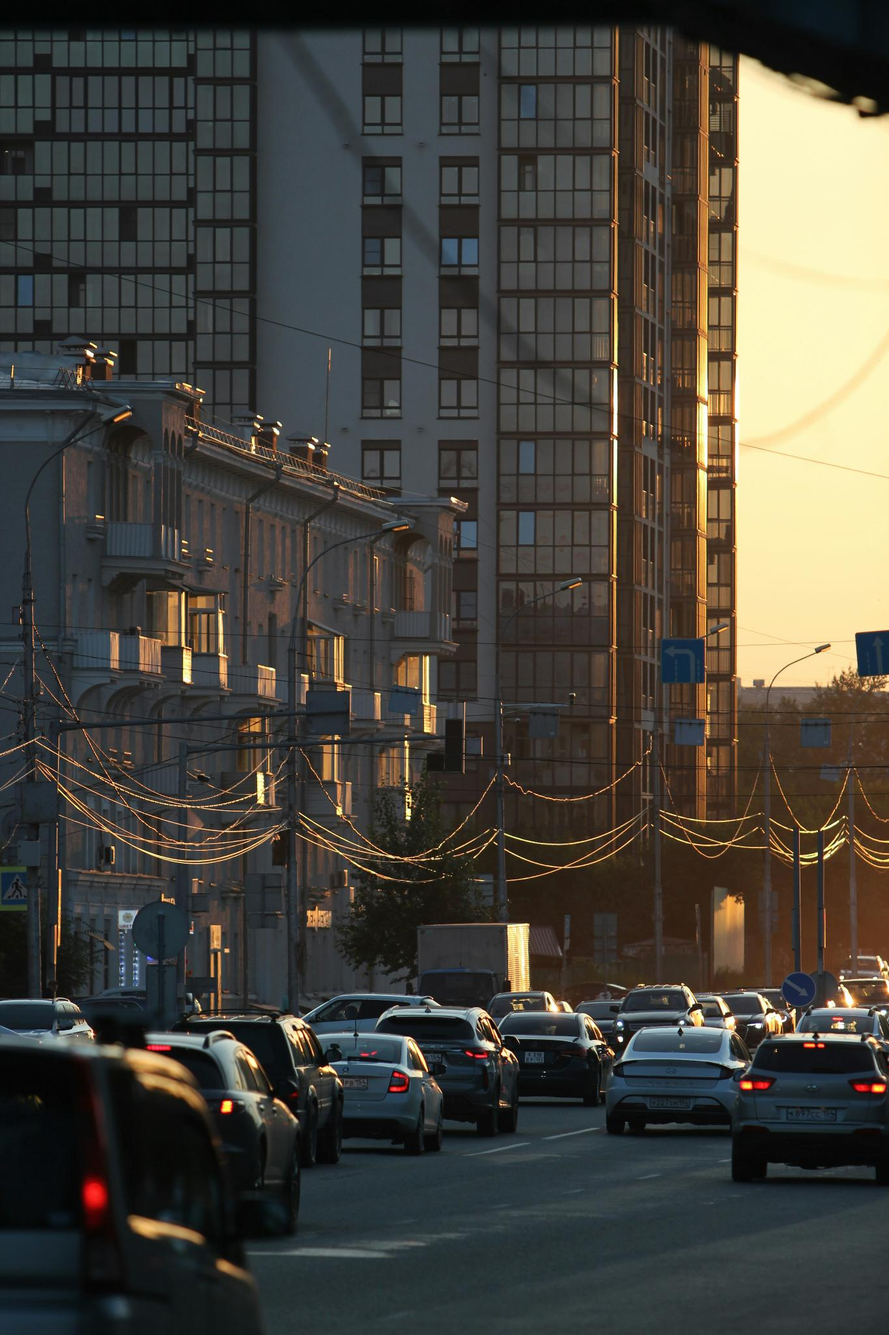car: (0, 1017, 261, 1331), (144, 1035, 301, 1240), (727, 1009, 886, 1185), (193, 1013, 348, 1168), (380, 1009, 521, 1137), (608, 1024, 752, 1135), (316, 1029, 443, 1154), (491, 1007, 609, 1106), (306, 991, 435, 1041), (688, 992, 774, 1060), (615, 988, 695, 1056), (0, 999, 100, 1048), (481, 994, 569, 1039), (616, 983, 693, 1024), (574, 999, 627, 1057)
